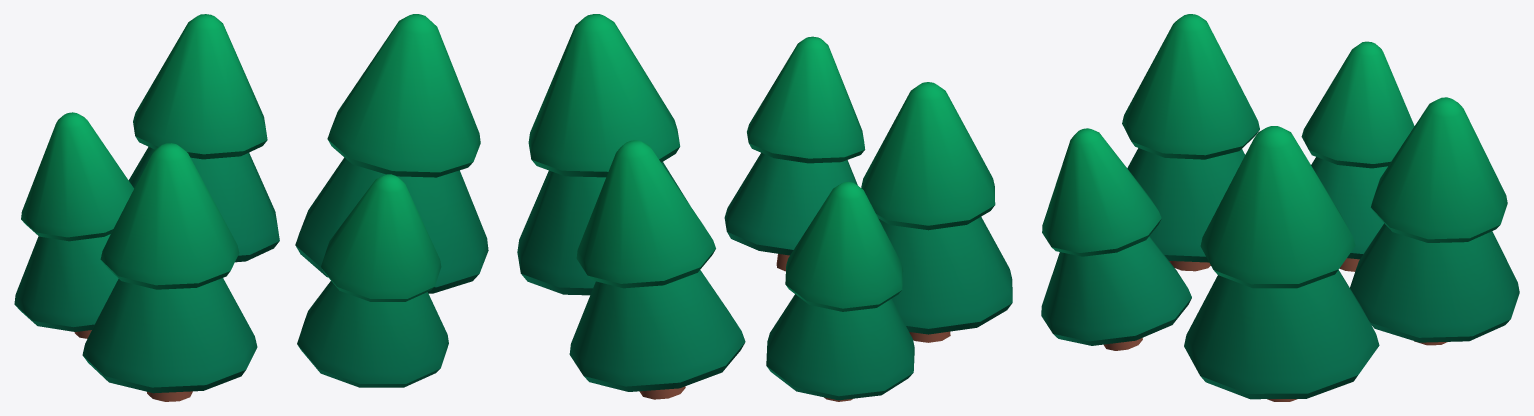
File: hex_trees_b_medium.glb
3 renders of one model, left to right at view 1: azimuth 30°, elevation 25°; view 2: azimuth 150°, elevation 25°; view 3: azimuth 270°, elevation 25°, orthographic.
Visible parts, largest first — view 1: hex_trees_b_medium; view 2: hex_trees_b_medium; view 3: hex_trees_b_medium.
Part boxes in pixels (x1,y1,x2,y2): hex_trees_b_medium: (14, 14, 488, 401); hex_trees_b_medium: (517, 14, 1012, 401); hex_trees_b_medium: (1041, 14, 1519, 401).
Size of the model in its own units: 0.9319 by 0.587 by 0.9166.
Materials: 1 (1 with a texture image).
